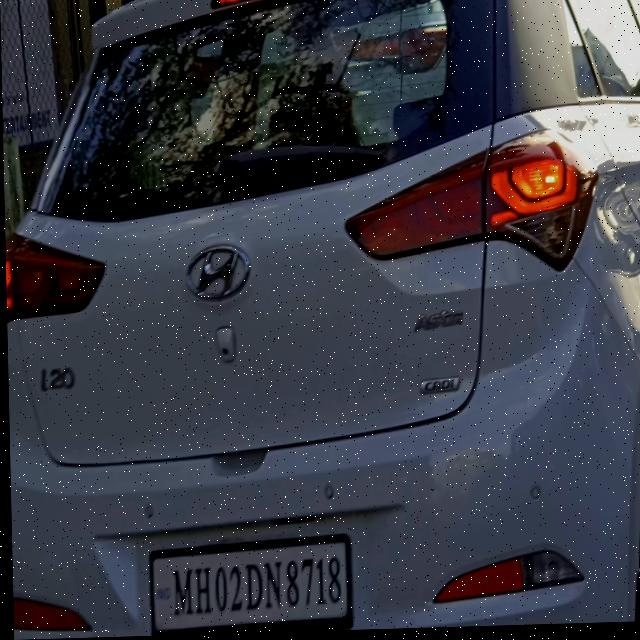plate: (140, 534, 354, 637)
